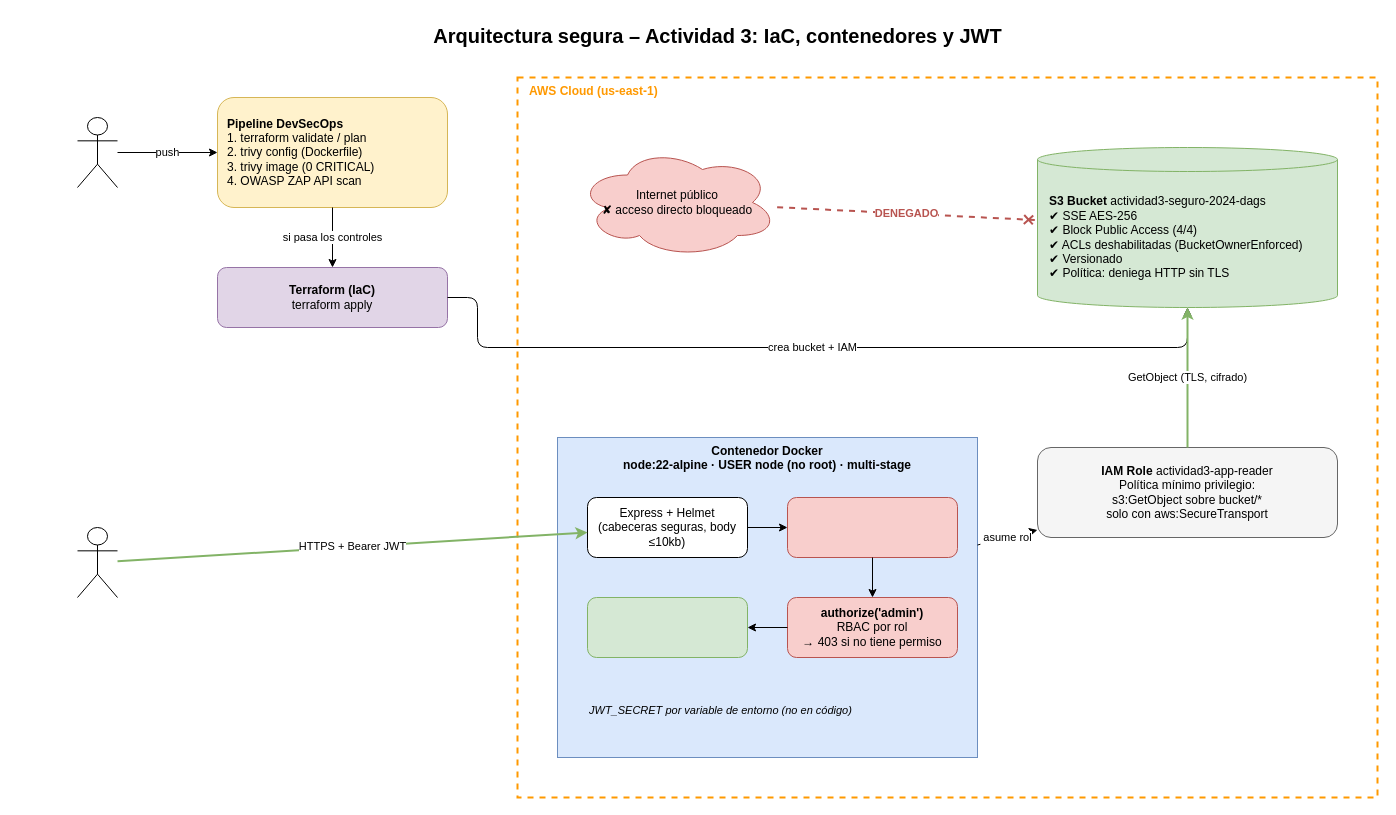
Image size: 1396x815. Some labels were removed from this diagram. The centre of each missing label's shape, as x and y in pixels:
"/api/public · /api/login /api/profile · /api/admin" goes at (x=667, y=627).
"authenticate() JWT HS256, iss/aud, exp 15m → 401 si falta/inválido" goes at (x=872, y=527).
"Cliente / Usuario" goes at (x=97, y=562).
"Desarrollador GitHub (código, .tf, Dockerfile)" goes at (x=97, y=152).
